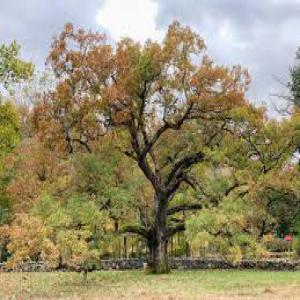Tree: (31, 12, 268, 274)
